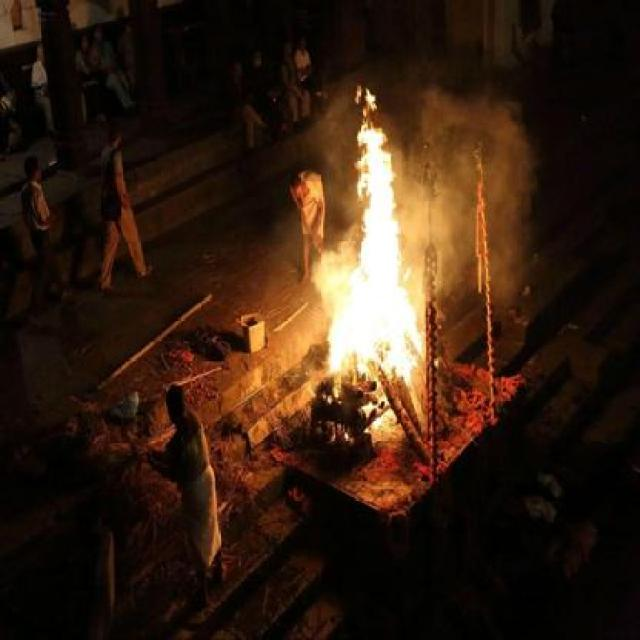Fire: (303, 85, 438, 412)
